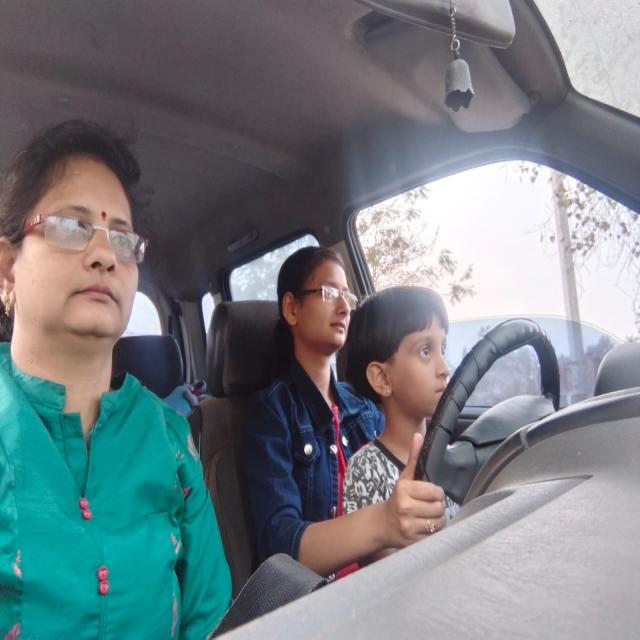child: (348, 287, 450, 412)
person: (1, 127, 150, 363), (278, 245, 358, 360)
